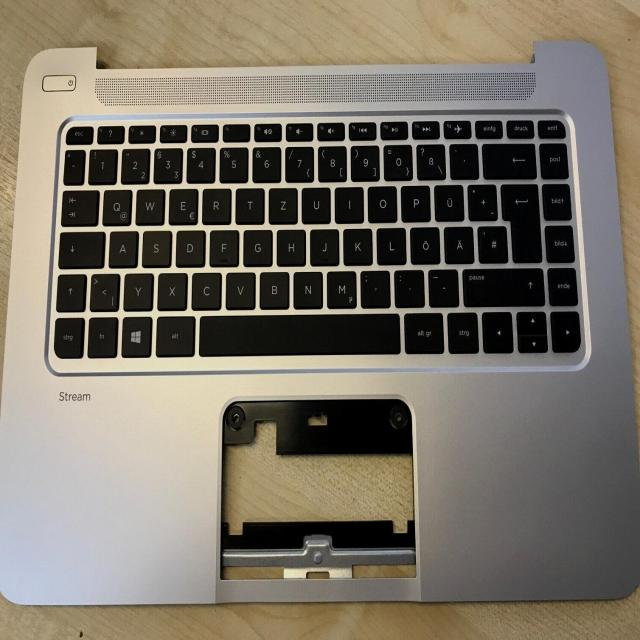0: (381, 142, 412, 179)
1: (86, 146, 116, 182)
2: (119, 145, 149, 182)
3: (152, 145, 182, 182)
4: (185, 145, 214, 181)
5: (218, 145, 247, 181)
6: (251, 144, 280, 181)
7: (283, 144, 313, 180)
8: (316, 143, 345, 180)
9: (349, 143, 379, 179)
a: (107, 228, 137, 266)
accent: (448, 141, 477, 177)
ae: (442, 224, 473, 262)
alt-left: (154, 313, 194, 356)
altgr-right: (402, 310, 443, 352)
b: (258, 269, 288, 307)
c: (190, 269, 221, 309)
caret: (63, 148, 84, 183)
comma: (358, 268, 389, 307)
d: (174, 228, 204, 265)
del: (481, 140, 535, 177)
e: (167, 186, 197, 224)
enter: (499, 181, 540, 261)
f: (208, 228, 237, 264)
g: (242, 227, 271, 265)
h: (275, 227, 305, 264)
hash: (476, 224, 507, 262)
i: (333, 184, 363, 220)
j: (308, 226, 338, 264)
k: (342, 226, 372, 264)
keyboard: (42, 108, 590, 374)
l: (375, 224, 405, 263)
less: (88, 271, 119, 309)
m: (324, 268, 356, 307)
minus: (426, 267, 458, 305)
n: (291, 269, 323, 308)
o: (366, 183, 396, 221)
oe: (409, 224, 440, 263)
p: (399, 182, 429, 220)
plus: (466, 181, 496, 219)
point: (392, 267, 423, 305)
q: (101, 187, 131, 225)
r: (200, 185, 230, 223)
s: (140, 228, 170, 266)
shift-left: (54, 272, 85, 311)
shift-lock: (57, 229, 104, 267)
shift-right: (460, 265, 543, 305)
space: (195, 311, 398, 354)
ss: (415, 142, 444, 177)
strg-left: (53, 316, 82, 358)
strg-right: (446, 310, 478, 352)
t: (234, 185, 263, 222)
tab: (60, 187, 98, 225)
u: (300, 185, 330, 223)
ue: (432, 182, 463, 220)
v: (224, 269, 254, 308)
w: (134, 186, 163, 224)
x: (156, 270, 186, 309)
y: (122, 271, 152, 309)
z: (267, 185, 297, 222)
